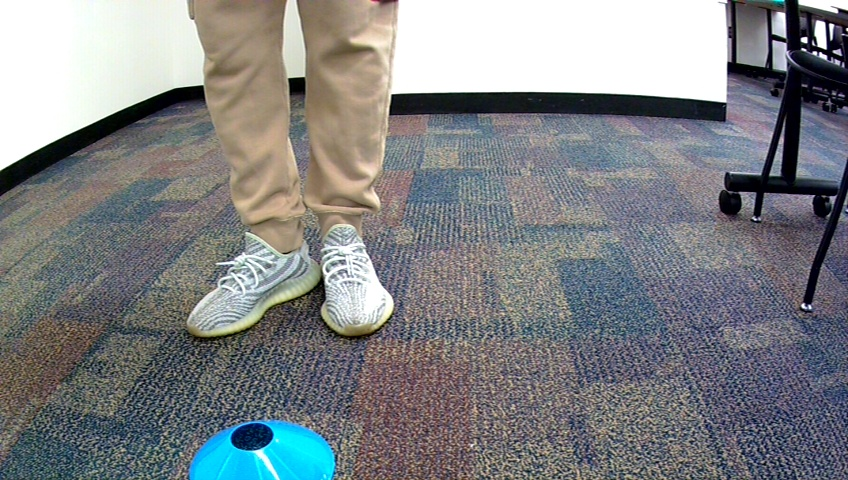cone: (187, 417, 336, 480)
